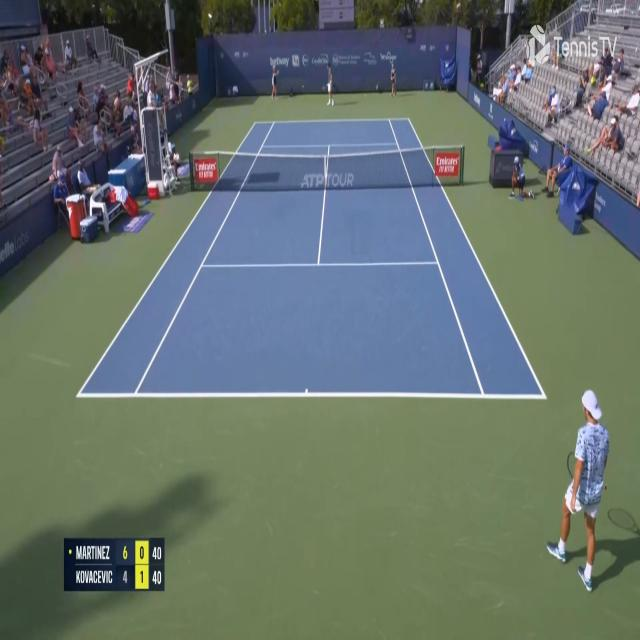tennis-player: (545, 382, 613, 594), (322, 61, 336, 108)
